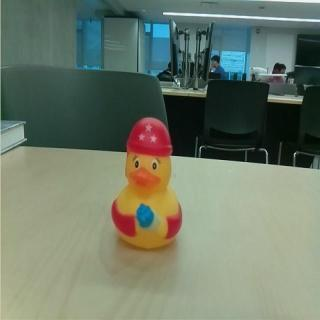duck_specialty: (111, 115, 185, 251)
